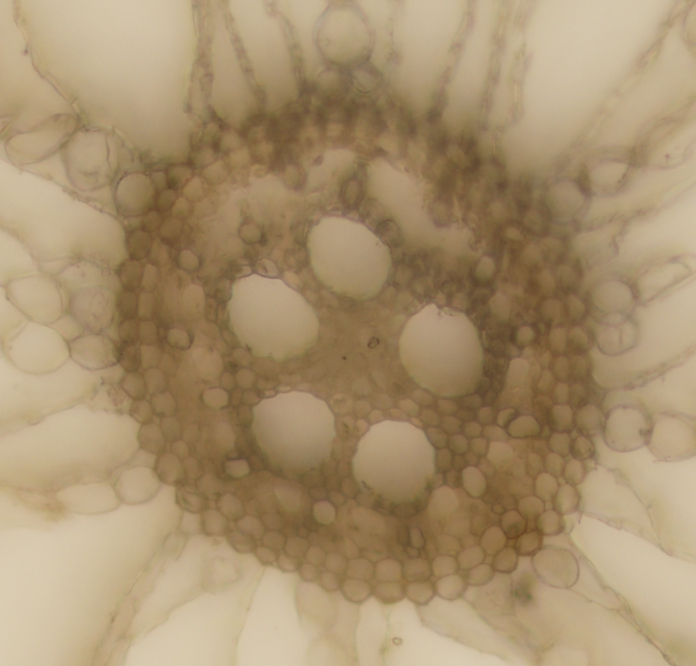lm: (396, 303, 485, 397), (227, 272, 320, 361), (304, 214, 393, 300), (251, 388, 338, 475), (351, 420, 437, 502)
